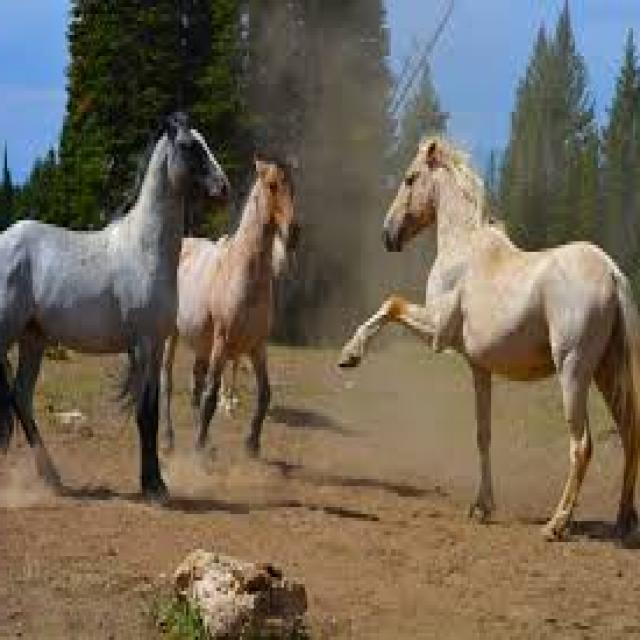horse-standing: (336, 125, 634, 555), (0, 98, 236, 505), (189, 148, 303, 465)
